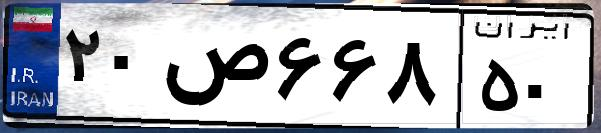0: (525, 38, 570, 115), (110, 28, 158, 98)
2: (57, 26, 110, 100)
5: (475, 38, 525, 113)
6: (270, 28, 330, 110), (330, 28, 385, 110)
8: (385, 28, 445, 110)
ص: (158, 20, 270, 120)
